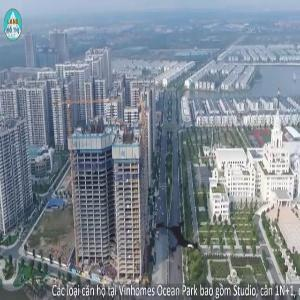drone: (136, 199, 220, 283)
